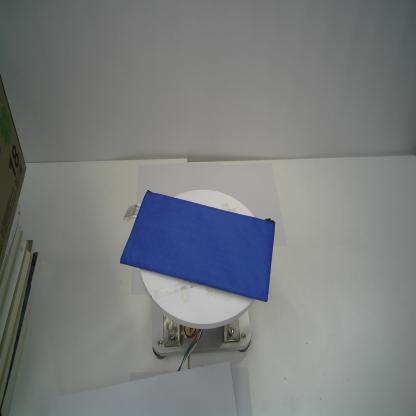Stationery: (117, 187, 278, 306)
